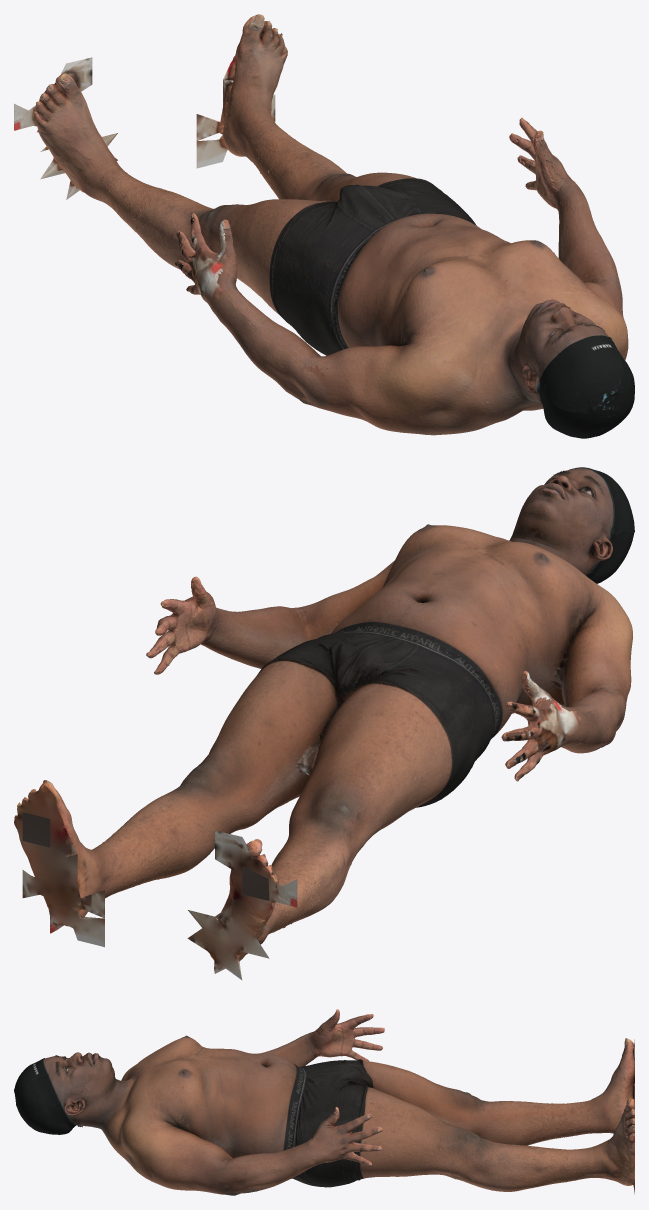
The model's file is drift-model-man.glb.
3 views of the same model, one above another, from view 1: azimuth 30°, elevation 25°; view 2: azimuth 150°, elevation 25°; view 3: azimuth 270°, elevation 25° (orthographic). The views are drawn at different scales.
Visible parts, largest first — view 1: default, default_1; view 2: default, default_1; view 3: default.
Part boxes in pixels (bbox=[...]): default: bbox=[14, 14, 634, 438]; default_1: bbox=[175, 213, 330, 406]; default: bbox=[14, 467, 634, 979]; default_1: bbox=[505, 672, 626, 780]; default: bbox=[14, 1009, 634, 1195].
Size of the model in its own units: 0.8737 by 0.3943 by 1.82.
2 materials, 2 textured.
